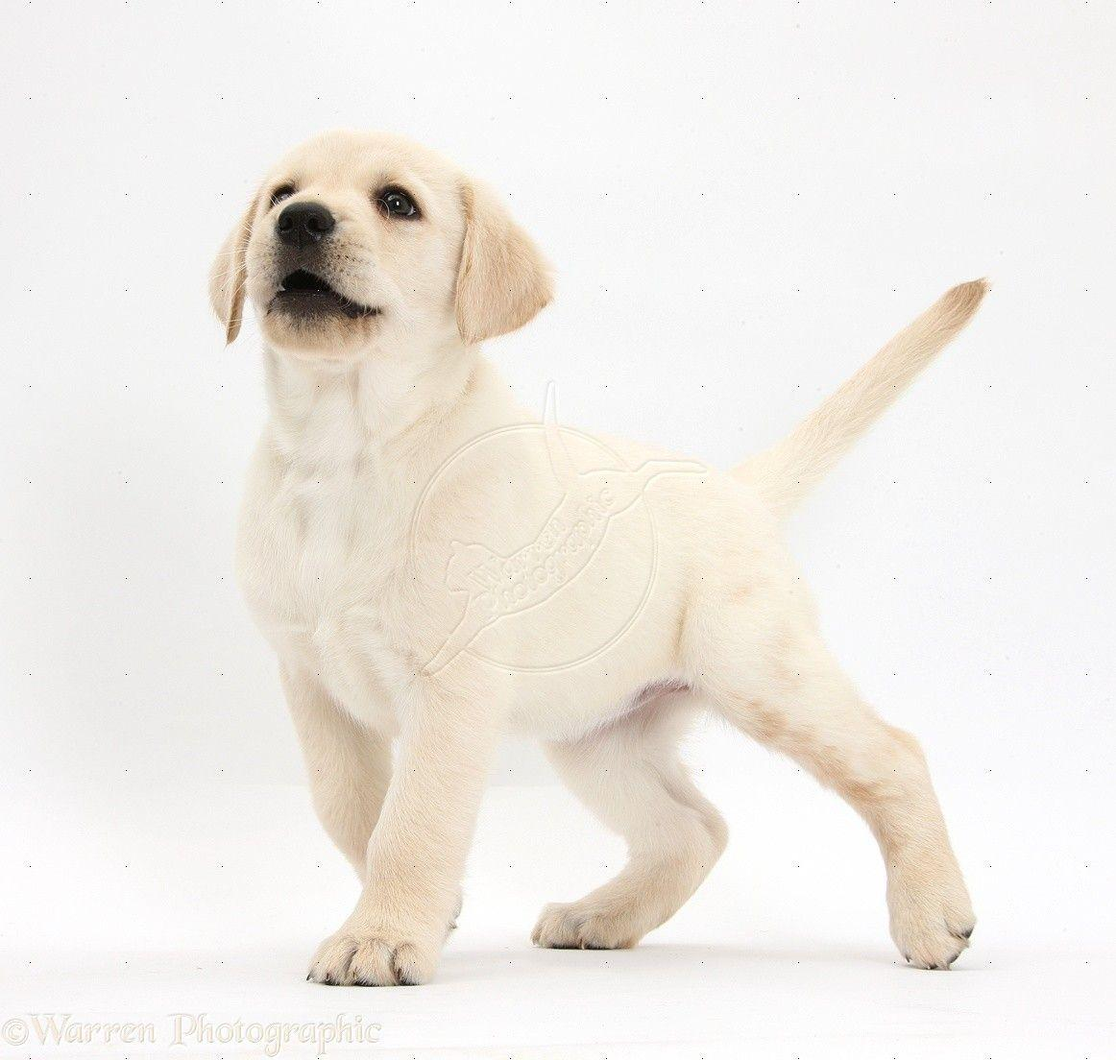puppy-dog: (206, 129, 994, 989)
